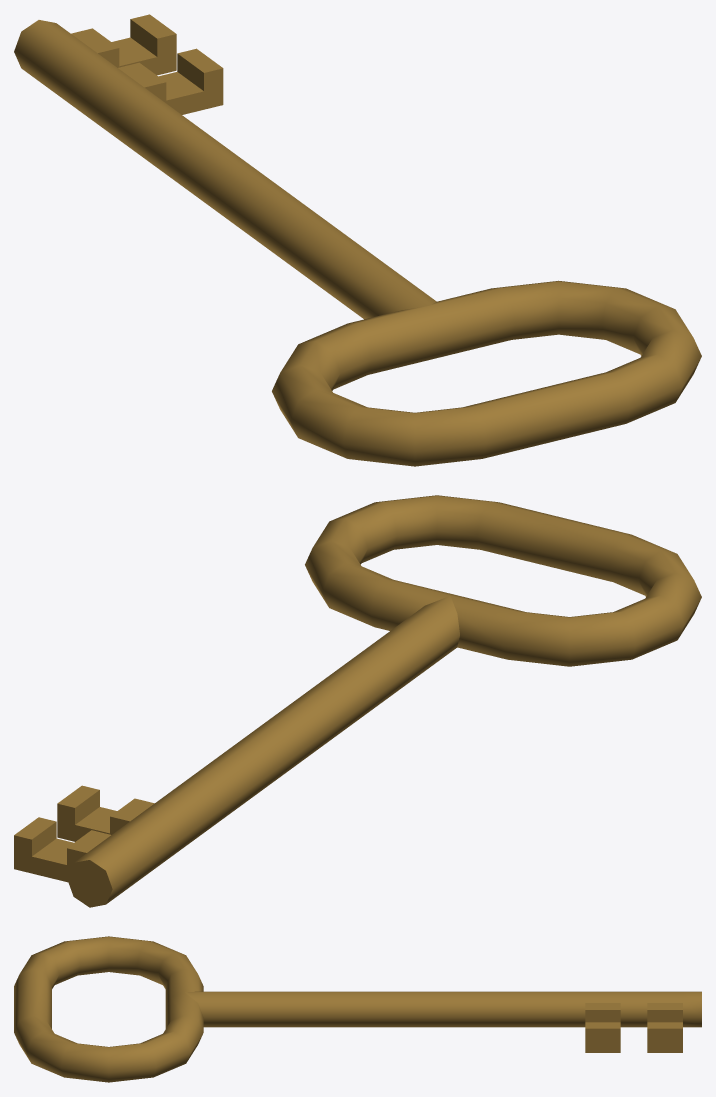
File: Key.fbx
The picture shows the model from 3 angles, top to bottom: view 1: azimuth 30°, elevation 25°; view 2: azimuth 150°, elevation 25°; view 3: azimuth 270°, elevation 25°; orthographic projection. The views are drawn at different scales.
Parts seen in each view (by area): view 1: Key; view 2: Key; view 3: Key.
Part boxes in pixels (x1,y1,x2,y2): Key: (14,14,701,466); Key: (14,495,701,907); Key: (14,936,701,1082).
Bounding box in the file's own units: 12.08 × 1.53 × 27.75.
1 material, 1 textured.
